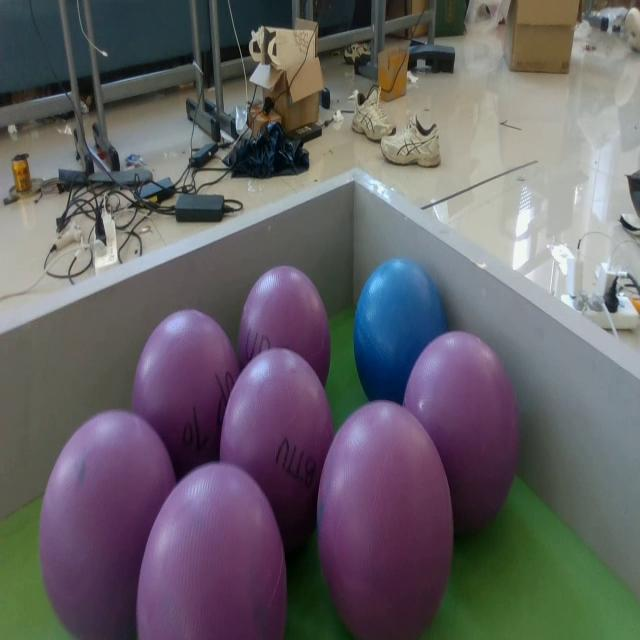blue: (352, 255, 446, 406)
invalid: (39, 405, 182, 640), (317, 398, 451, 640), (406, 330, 523, 550), (138, 468, 286, 640), (222, 347, 334, 544), (134, 314, 235, 466), (240, 266, 331, 390)
